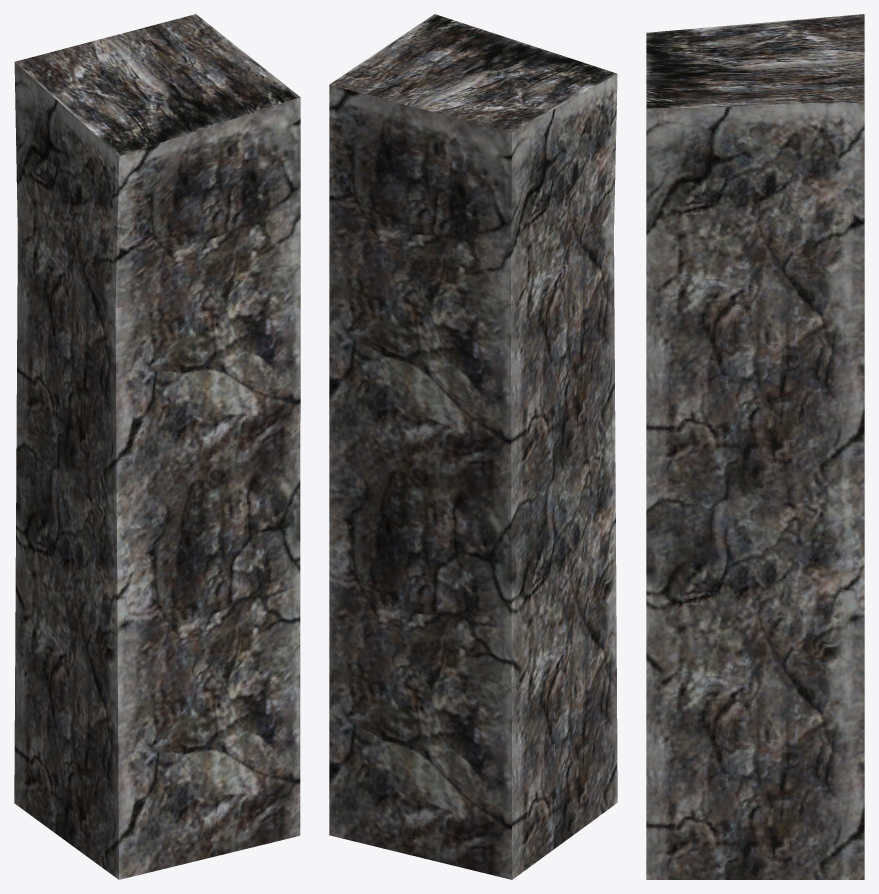
3 renders of one model, left to right at view 1: azimuth 30°, elevation 25°; view 2: azimuth 150°, elevation 25°; view 3: azimuth 270°, elevation 25°, orthographic. The views are drawn at different scales.
Parts seen in each view (by area): view 1: hr_mk2-col; view 2: hr_mk2-col; view 3: hr_mk2-col.
Part boxes in pixels (x1,y1,x2,y2): hr_mk2-col: (14,14,300,879); hr_mk2-col: (329,14,617,879); hr_mk2-col: (646,14,864,879).
Bounding box in the file's own units: 1.81 × 7.08 × 1.81.
Materials: 2 (2 with a texture image).
